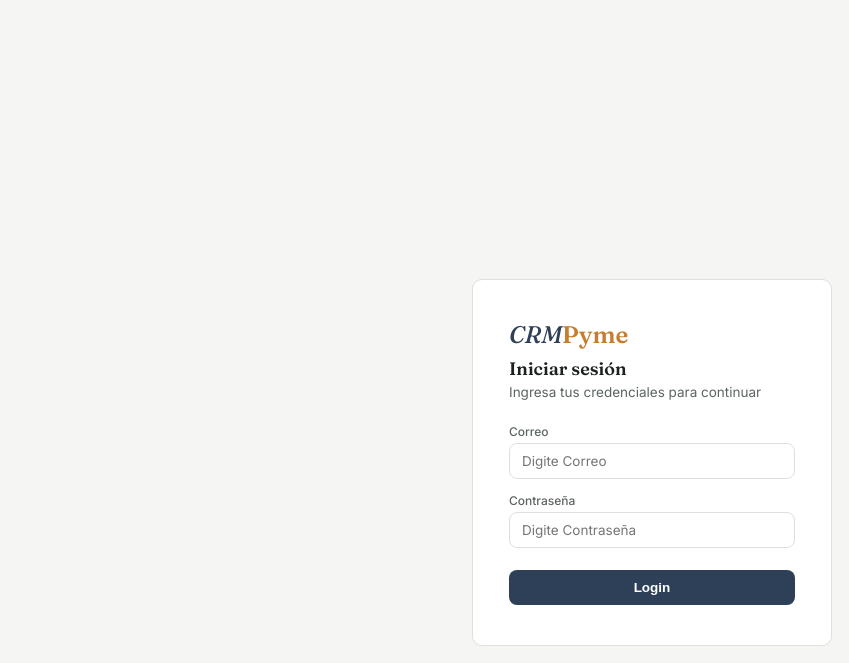
Test case: LoginPage — login exitoso › CP-04: rol vendedor redirige a "Dashboard Vendedor"
Type "test@crm.local" into the field labelled "Correo" at (652, 460), box [509,442,795,478]
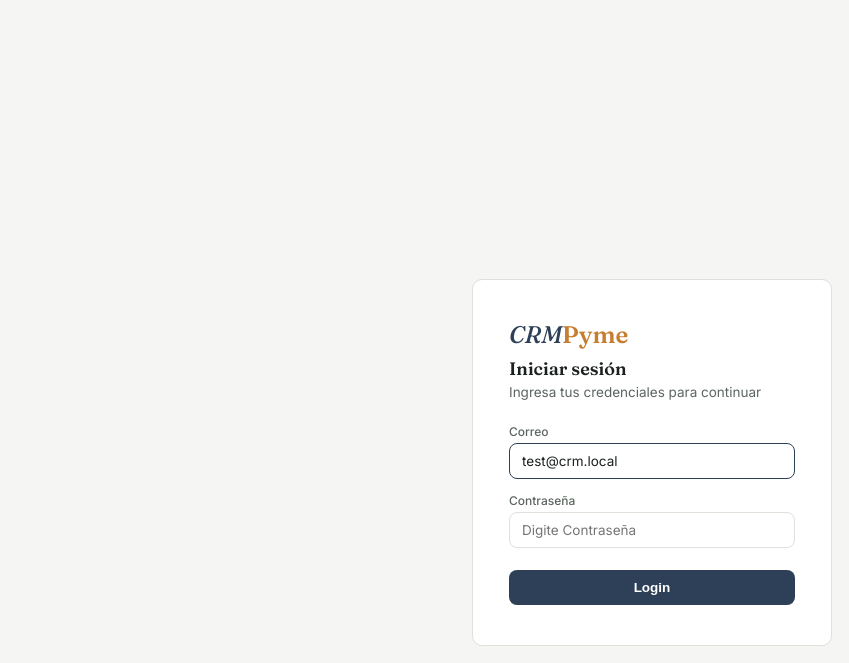
Type "Clave123*" into the password field labelled "Contraseña" at (652, 530), box [509,512,795,548]
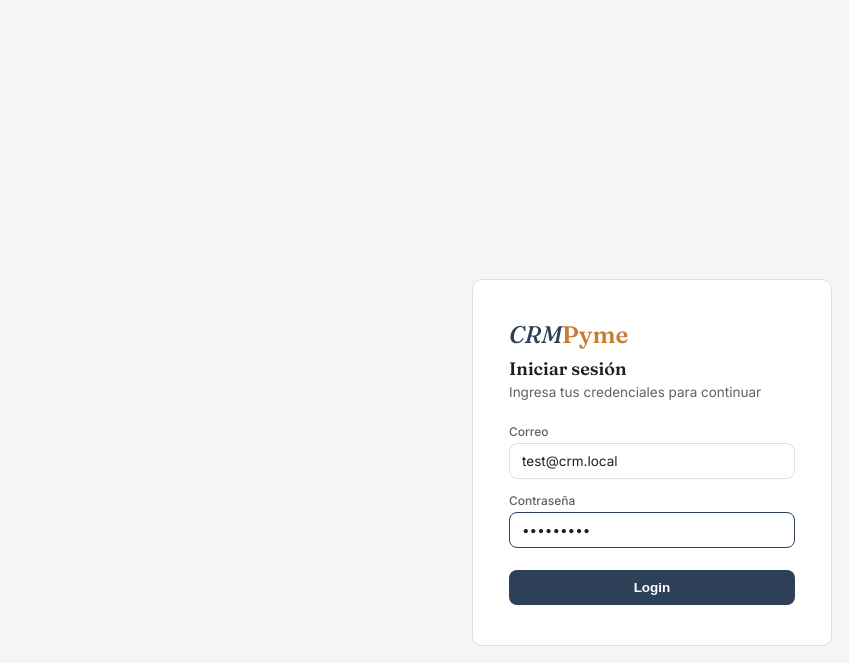
Click the button "Login" at (652, 587), box [509,570,795,604]
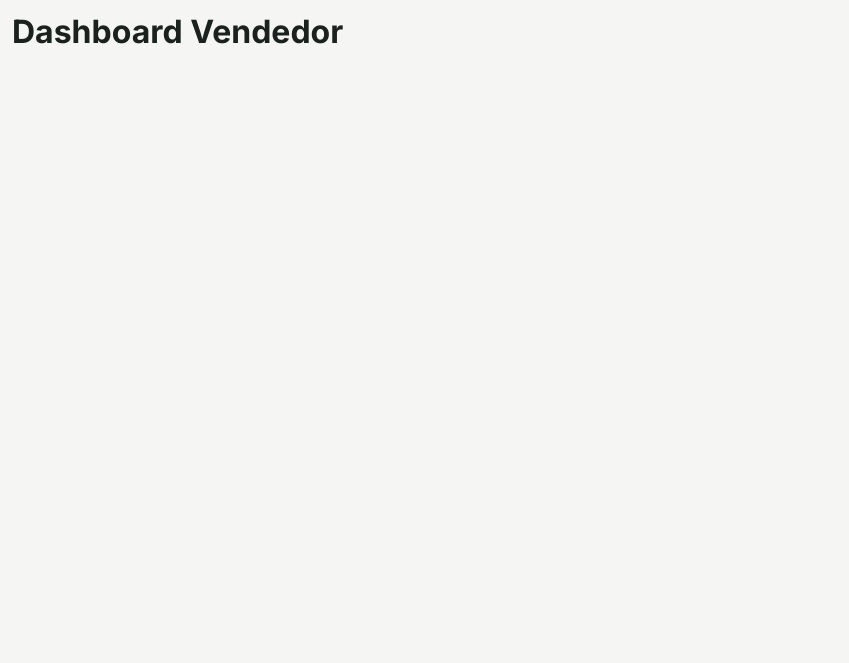
Now the heading "Dashboard Vendedor" is shown, box [12,12,343,51]
